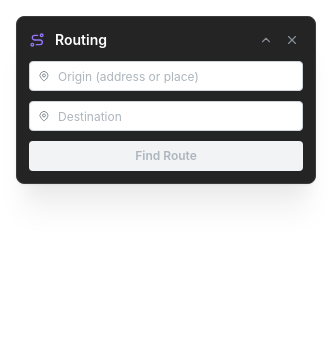
Test: RoutingPanel › lists each step with its instruction and distance
Type "here" into the field with placeholder "Origin (address or place)" at (166, 76), box [29,61,303,91]
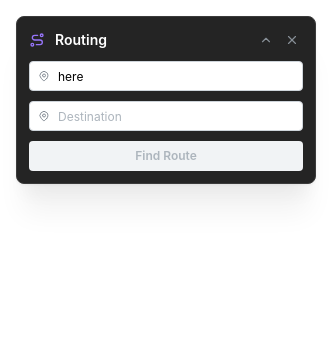
Type "there" into the field with placeholder "Destination" at (166, 116), box [29,101,303,131]
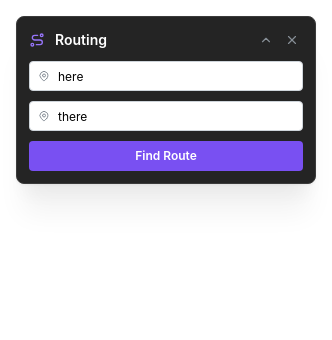
Click the button "Find Route" at (166, 156), box [29,141,303,171]
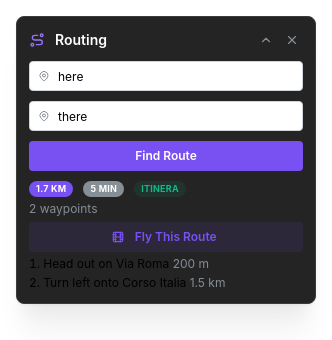
Now the button "Fly This Route" is shown, box [29,222,303,252]
Now the list items read "Head out on Via Roma 200 m", "Turn left onto Corso Italia 1.5 km", in this order, box [43,256,209,271]; [43,275,225,290]
